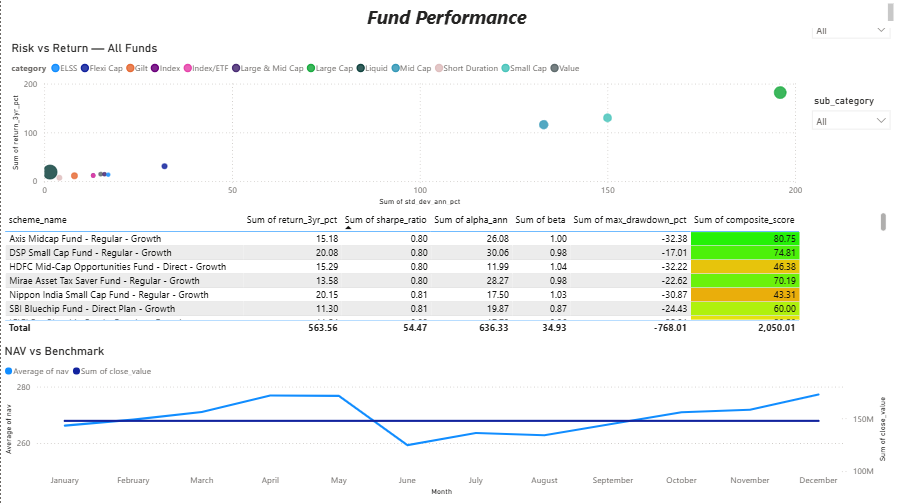

This screenshot's page, from the dashboard's own definition file:
{"tool":"powerbi","page":{"name":"Fund Performance","canvas":[1280,720],"ordinal":1},"visuals":[{"type":"scatterChart","title":"Risk vs Return — All Funds","fields":{"X":["Sum(clean_performance.std_dev_ann_pct)"],"Y":["Sum(clean_performance.return_3yr_pct)"],"Size":["Sum(clean_performance.sharpe_ratio)"],"Series":["clean_performance.category"]},"box":[9.6,59.2,1139.6,239.5],"z":0},{"type":"actionButton","box":[0,0,100,40],"z":1000},{"type":"tableEx","fields":{"Values":["clean_fund_master.scheme_name","Sum(clean_performance.return_3yr_pct)","Sum(clean_performance.sharpe_ratio)","Sum(fund_scorecard.alpha_ann)","Sum(clean_performance.beta)","Sum(clean_performance.max_drawdown_pct)","Sum(fund_scorecard.composite_score)"]},"box":[0,298.7,1270.4,183.1],"z":2000},{"type":"slicer","fields":{"Values":["clean_aum csv.fund_house"]},"box":[1148.8,0,131.7,118.5],"z":3000},{"type":"slicer","fields":{"Values":["clean_fund_master.sub_category"]},"box":[1148.8,130.2,131.7,130.2],"z":4000},{"type":"lineChart","title":"NAV vs Benchmark","fields":{"Category":["clean_nav.date.Variation.Date Hierarchy.Month"],"Y":["Avg(clean_nav.nav)"],"Y2":["Sum(clean_benchmark_indices.close_value)"]},"box":[0,491,1270,221],"z":5000},{"type":"textbox","box":[0,0,1280,39.9],"z":6000}]}

Visuals, with their boxes in screenshot pixels (x1, y1, x2, y2), scaled from the page's 1280x720 canvas onto the 897x503 screenshot:
"Risk vs Return — All Funds" scatterChart: <box>7,41,805,209</box>
actionButton: <box>0,0,70,28</box>
tableEx - clean_fund_master.scheme_name x Sum(clean_performance.return_3yr_pct): <box>0,209,890,337</box>
slicer - clean_aum csv.fund_house: <box>805,0,896,83</box>
slicer - clean_fund_master.sub_category: <box>805,91,896,182</box>
"NAV vs Benchmark" lineChart: <box>0,343,890,497</box>
textbox: <box>0,0,896,28</box>
